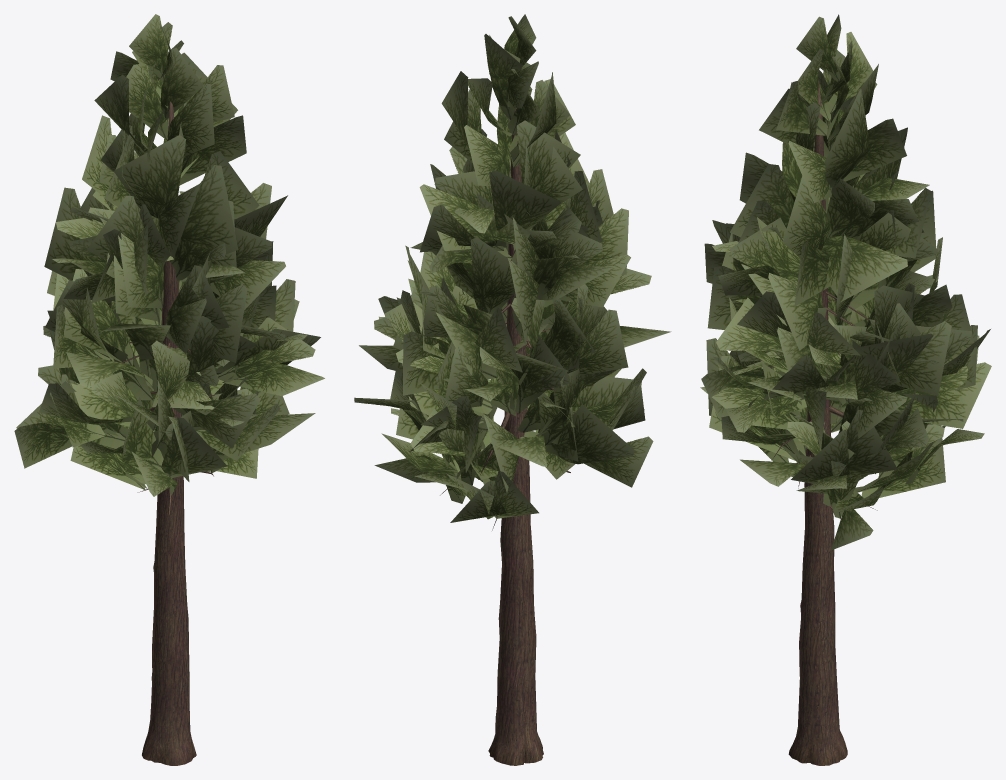
File: BigTree3.fbx
The picture shows the model from 3 angles, left to right: view 1: azimuth 30°, elevation 25°; view 2: azimuth 150°, elevation 25°; view 3: azimuth 270°, elevation 25°; orthographic projection.
Visible parts, largest first — view 1: SM_d_109_Coniferous_03a; view 2: SM_d_109_Coniferous_03a; view 3: SM_d_109_Coniferous_03a.
Part boxes in pixels (box(x1,y1,x2,y2)): SM_d_109_Coniferous_03a: box(14, 14, 324, 765); SM_d_109_Coniferous_03a: box(354, 14, 671, 765); SM_d_109_Coniferous_03a: box(700, 14, 991, 765).
Bounding box in the file's own units: 1065 × 2684 × 962.
